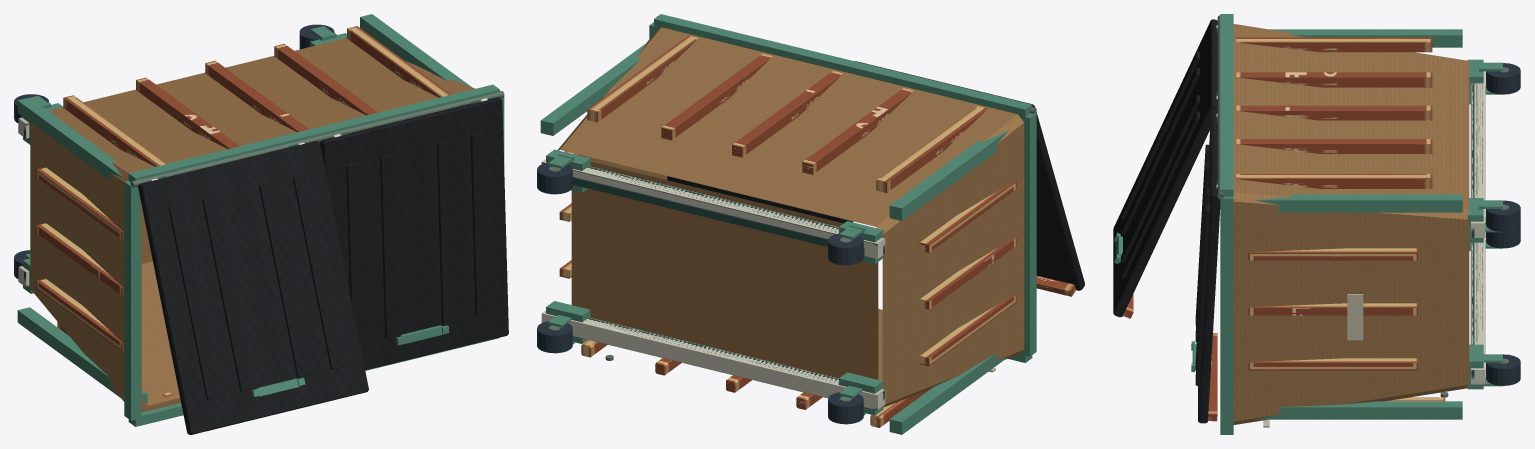
Rendered from PZ_DST_01_Commercial_Dumpster_3YD.glb.
The picture shows the model from 3 angles, left to right: view 1: azimuth 30°, elevation 25°; view 2: azimuth 150°, elevation 25°; view 3: azimuth 270°, elevation 25°; orthographic projection. The views are drawn at different scales.
Visible parts, largest first — view 1: DUMPSTER_MainBody_HollowWatertightTaperedSteel, DUMPSTER_LEFT_Lid_HDPE_MainPanel, DUMPSTER_RIGHT_Lid_HDPE_MainPanel, DUMPSTER_LEFT_Lid_RaisedDrainageRidges, DUMPSTER_RIGHT_Lid_RaisedDrainageRidges, DUMPSTER_Rear_VerticalRibs, DUMPSTER_Rim_WeldedSteelLip, DUMPSTER_End_WeldedCornerPosts, DUMPSTER_Side_ExteriorRaisedStamping, DUMPSTER_Hinge_FixedAxleBar, DUMPSTER_RIGHT_Lid_RecessedPullHandle, DUMPSTER_Base_HeavyCornerMounts (+1 smaller); view 2: DUMPSTER_MainBody_HollowWatertightTaperedSteel, DUMPSTER_Base_UnderbodyRunners, DUMPSTER_Rear_VerticalRibs, DUMPSTER_Rim_WeldedSteelLip, DUMPSTER_End_WeldedCornerPosts, DUMPSTER_Side_ExteriorRaisedStamping, DUMPSTER_LEFT_Lid_HDPE_MainPanel, DUMPSTER_Base_HeavyCornerMounts, DUMPSTER_Front_BevelledReinforcingRibs, DUMPSTER_CASTER_LEFT_REAR_RubberWheel, DUMPSTER_CASTER_RIGHT_FRONT_RubberWheel, DUMPSTER_CASTER_RIGHT_REAR_RubberWheel (+3 smaller); view 3: DUMPSTER_MainBody_HollowWatertightTaperedSteel, DUMPSTER_Rear_VerticalRibs, DUMPSTER_End_WeldedCornerPosts, DUMPSTER_LEFT_Lid_HDPE_MainPanel, DUMPSTER_Rim_WeldedSteelLip, DUMPSTER_Side_ExteriorRaisedStamping, DUMPSTER_LEFT_Lid_RaisedDrainageRidges, DUMPSTER_Base_UnderbodyRunners, DUMPSTER_RIGHT_Lid_HDPE_MainPanel, DUMPSTER_RIGHT_Lid_RaisedDrainageRidges, DUMPSTER_Base_HeavyCornerMounts, DUMPSTER_CASTER_LEFT_REAR_RubberWheel (+6 smaller).
Part boxes in pixels (box(x1,y1,x2,y2)): DUMPSTER_MainBody_HollowWatertightTaperedSteel: box(30, 38, 475, 412); DUMPSTER_LEFT_Lid_HDPE_MainPanel: box(138, 141, 368, 434); DUMPSTER_RIGHT_Lid_HDPE_MainPanel: box(320, 97, 508, 370); DUMPSTER_LEFT_Lid_RaisedDrainageRidges: box(168, 174, 344, 399); DUMPSTER_RIGHT_Lid_RaisedDrainageRidges: box(346, 131, 489, 345); DUMPSTER_Rear_VerticalRibs: box(63, 26, 450, 166); DUMPSTER_Rim_WeldedSteelLip: box(124, 84, 504, 426); DUMPSTER_End_WeldedCornerPosts: box(17, 14, 471, 403); DUMPSTER_Side_ExteriorRaisedStamping: box(36, 167, 123, 351); DUMPSTER_Hinge_FixedAxleBar: box(130, 91, 504, 187); DUMPSTER_RIGHT_Lid_RecessedPullHandle: box(396, 325, 449, 345); DUMPSTER_Base_HeavyCornerMounts: box(23, 33, 346, 293); DUMPSTER_MainBody_HollowWatertightTaperedSteel: box(557, 27, 1024, 407); DUMPSTER_Base_UnderbodyRunners: box(541, 159, 885, 410); DUMPSTER_Rear_VerticalRibs: box(587, 35, 987, 192); DUMPSTER_Rim_WeldedSteelLip: box(649, 14, 1036, 362); DUMPSTER_End_WeldedCornerPosts: box(540, 42, 1008, 434); DUMPSTER_Side_ExteriorRaisedStamping: box(559, 151, 1016, 366); DUMPSTER_LEFT_Lid_HDPE_MainPanel: box(855, 61, 1084, 290); DUMPSTER_Base_HeavyCornerMounts: box(546, 149, 883, 415); DUMPSTER_Front_BevelledReinforcingRibs: box(581, 340, 930, 427); DUMPSTER_CASTER_LEFT_REAR_RubberWheel: box(828, 233, 863, 265); DUMPSTER_CASTER_RIGHT_FRONT_RubberWheel: box(537, 321, 572, 353); DUMPSTER_CASTER_RIGHT_REAR_RubberWheel: box(537, 162, 572, 194); DUMPSTER_MainBody_HollowWatertightTaperedSteel: box(1233, 24, 1469, 424); DUMPSTER_Rear_VerticalRibs: box(1235, 37, 1432, 188); DUMPSTER_End_WeldedCornerPosts: box(1255, 29, 1462, 419); DUMPSTER_LEFT_Lid_HDPE_MainPanel: box(1113, 19, 1217, 317); DUMPSTER_Rim_WeldedSteelLip: box(1220, 14, 1233, 434); DUMPSTER_Side_ExteriorRaisedStamping: box(1248, 248, 1417, 370); DUMPSTER_LEFT_Lid_RaisedDrainageRidges: box(1121, 51, 1199, 279); DUMPSTER_Base_UnderbodyRunners: box(1470, 71, 1485, 384); DUMPSTER_RIGHT_Lid_HDPE_MainPanel: box(1198, 109, 1220, 423); DUMPSTER_RIGHT_Lid_RaisedDrainageRidges: box(1195, 144, 1209, 385); DUMPSTER_Base_HeavyCornerMounts: box(1467, 59, 1483, 389); DUMPSTER_CASTER_LEFT_REAR_RubberWheel: box(1486, 63, 1520, 94).
Size of the model in its own units: 2.11 by 1.36 by 2.02.
Materials: 1 (1 with a texture image).
